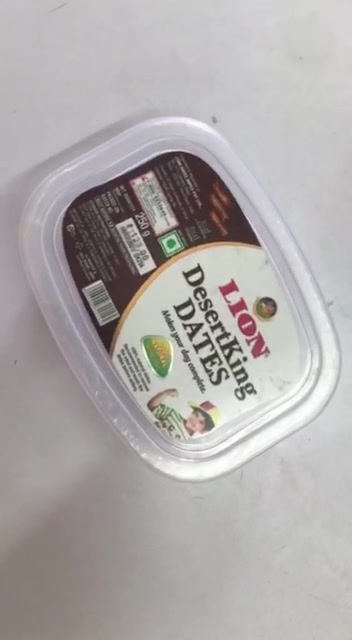Lion dates: (21, 121, 341, 482)
